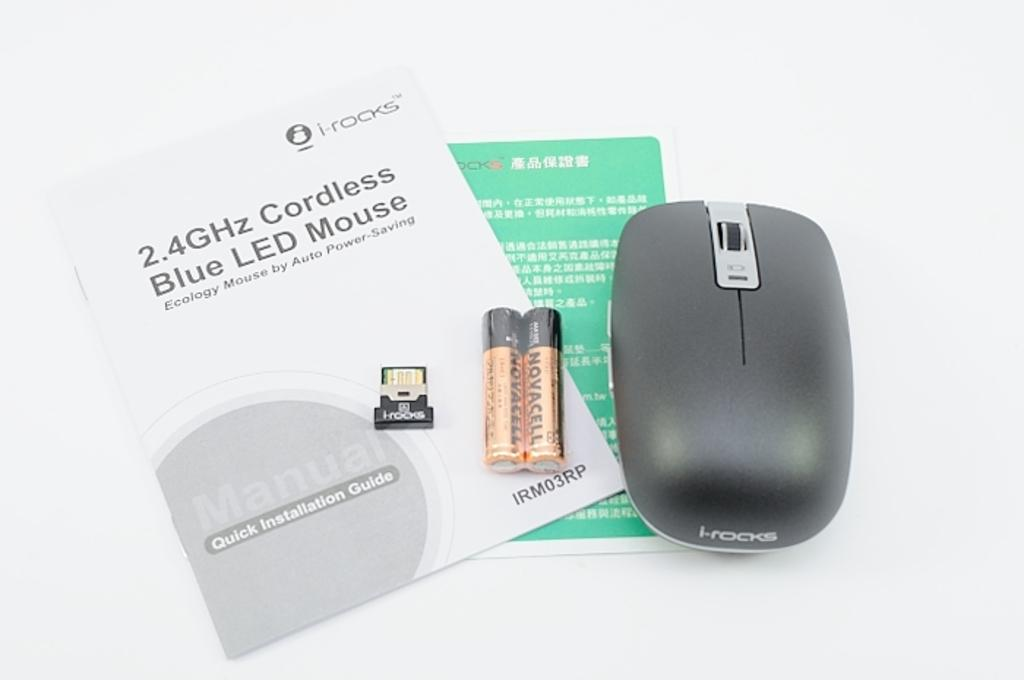Computer-mouse: (607, 196, 857, 553)
